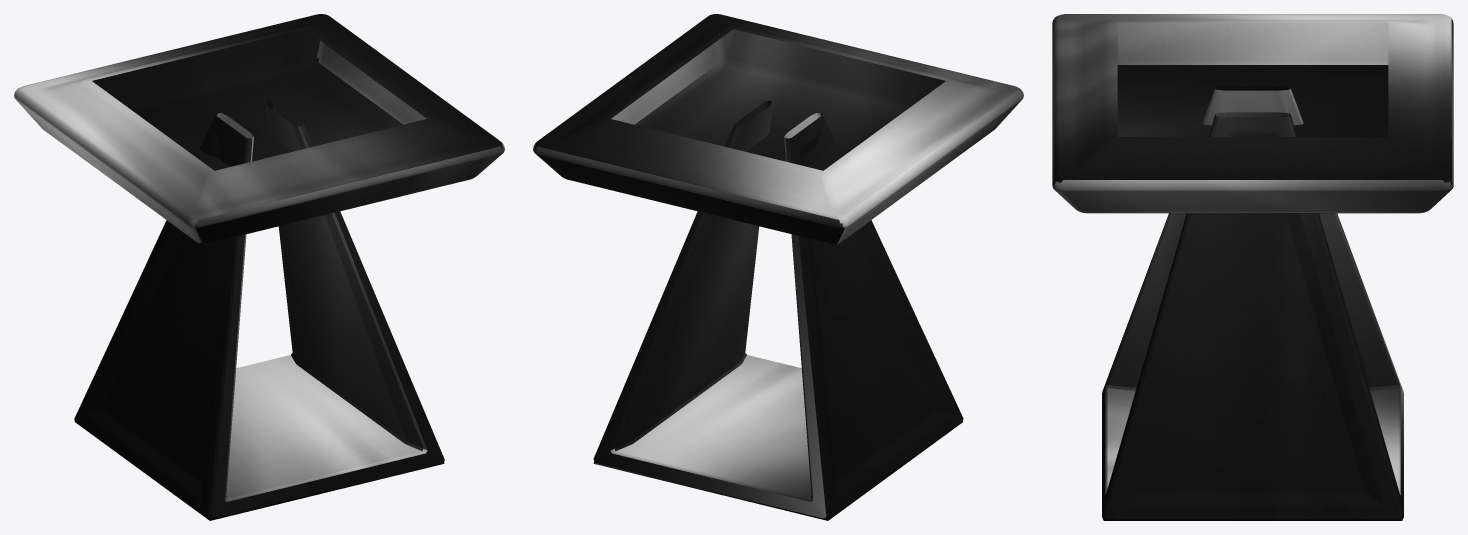
Rendered from Sprungbrett.fbx.
3 renders of one model, left to right at view 1: azimuth 30°, elevation 25°; view 2: azimuth 150°, elevation 25°; view 3: azimuth 270°, elevation 25°, orthographic. The views are drawn at different scales.
Parts seen in each view (by area): view 1: Stuetze, SprungBrett; view 2: Stuetze, SprungBrett; view 3: Stuetze, SprungBrett.
Part boxes in pixels (x1,y1,x2,y2): Stuetze: [74, 100, 444, 520]; SprungBrett: [14, 14, 504, 244]; Stuetze: [593, 100, 963, 520]; SprungBrett: [533, 14, 1023, 243]; Stuetze: [1102, 86, 1403, 520]; SprungBrett: [1052, 14, 1453, 213].
Bounding box in the file's own units: 10.46 × 10.87 × 10.46.
Materials: 1 (1 with a texture image).
